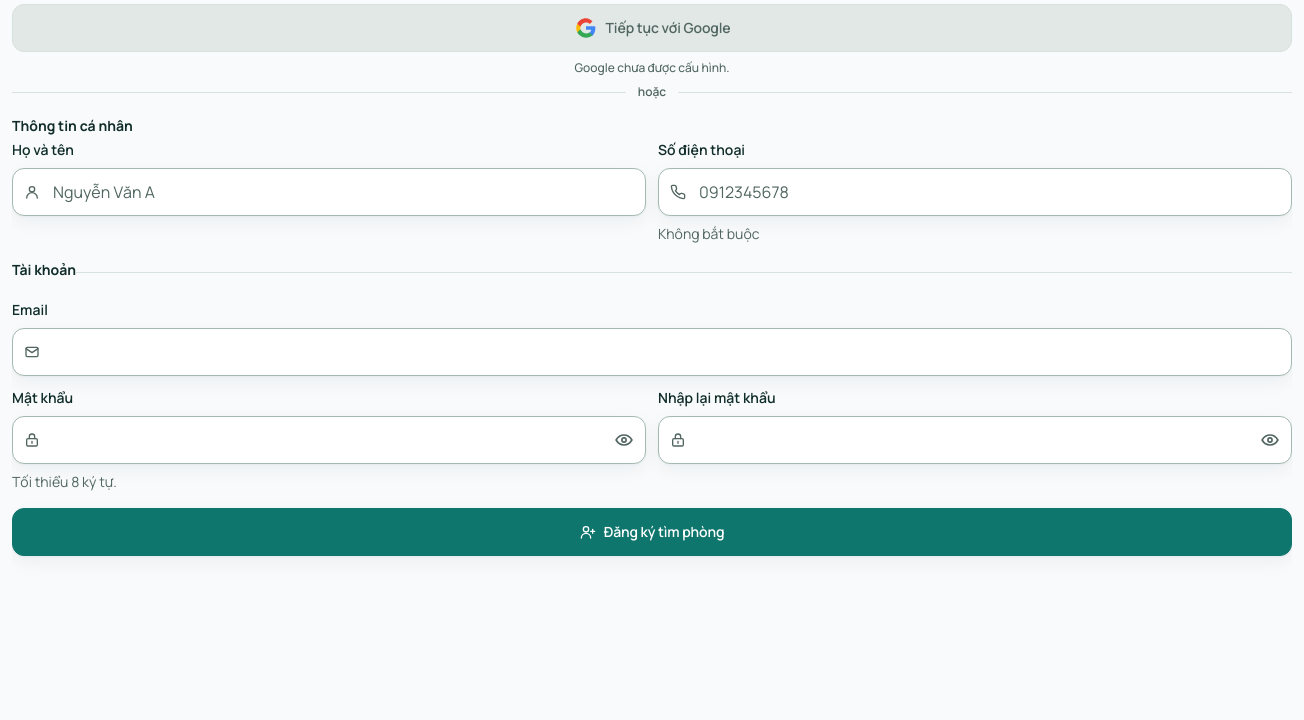
Scenario: RegistrationForm › maps backend validation details and clears the relevant error after correction
Step 1. Type "  Nguyễn Văn An  " into the field named "Họ và tên (bắt buộc)" → (329, 192), box [12,168,646,216]
Step 2. Type "tenant@example.com" into the field named "Email (bắt buộc)" → (652, 352), box [12,328,1292,376]
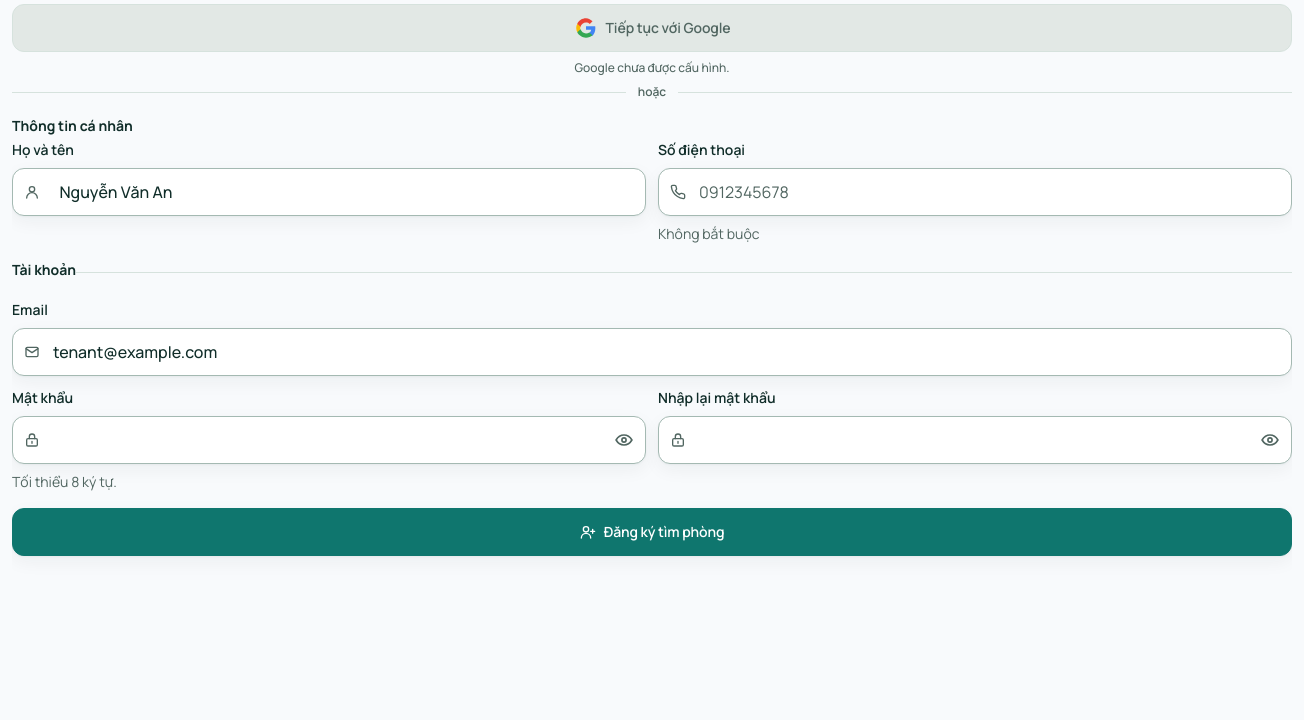
Step 3. Type "password" into the password field named "Mật khẩu (bắt buộc)" → (329, 440), box [12,416,646,464]
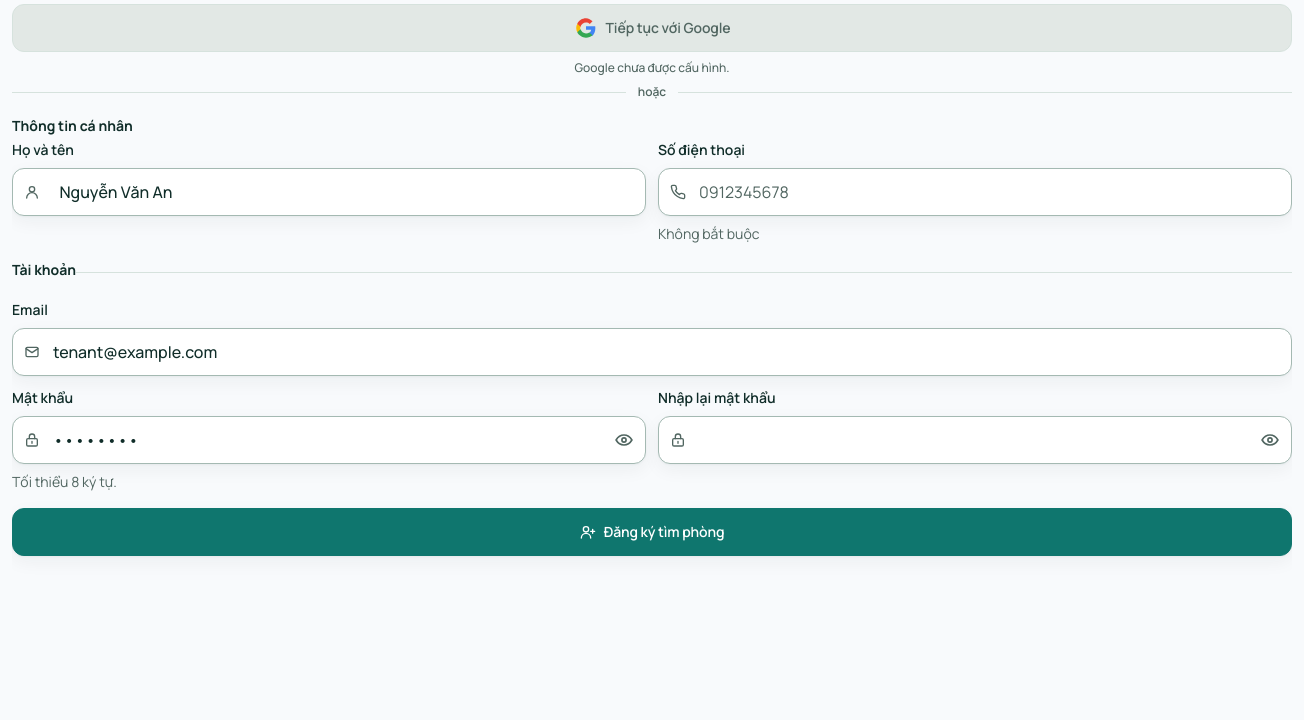
Step 4. Type "password" into the password field named "Nhập lại mật khẩu (bắt buộc)" → (975, 440), box [658,416,1292,464]
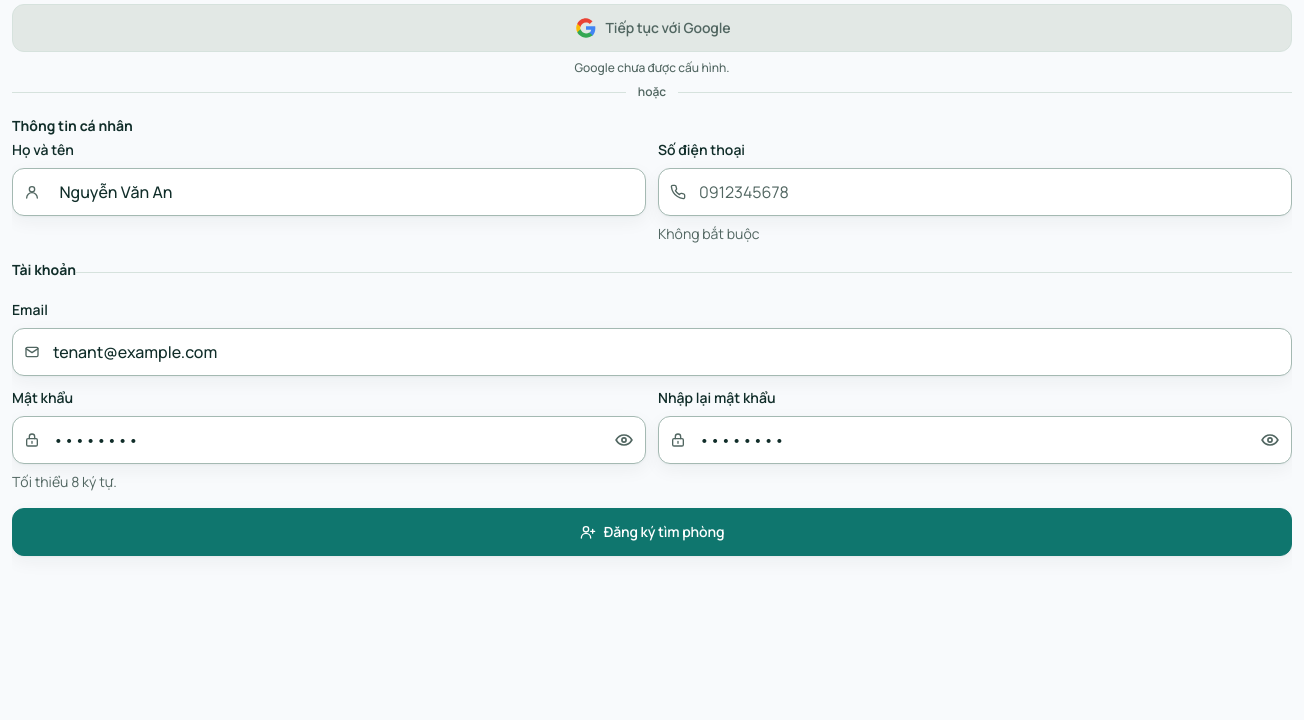
Step 5. Type "+84901234567" into the field labelled "Số điện thoại" → (975, 192), box [658,168,1292,216]
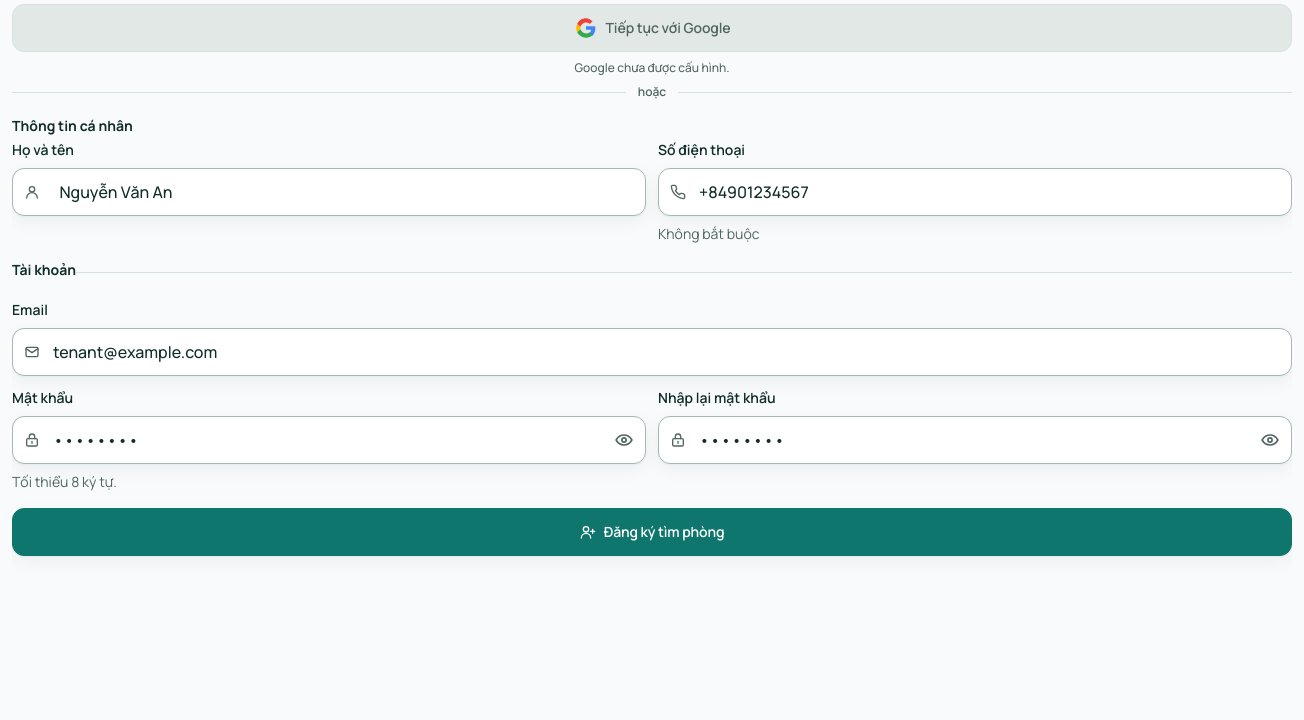
Step 6. Click the button "Đăng ký tìm phòng" → (652, 532), box [12,508,1292,556]
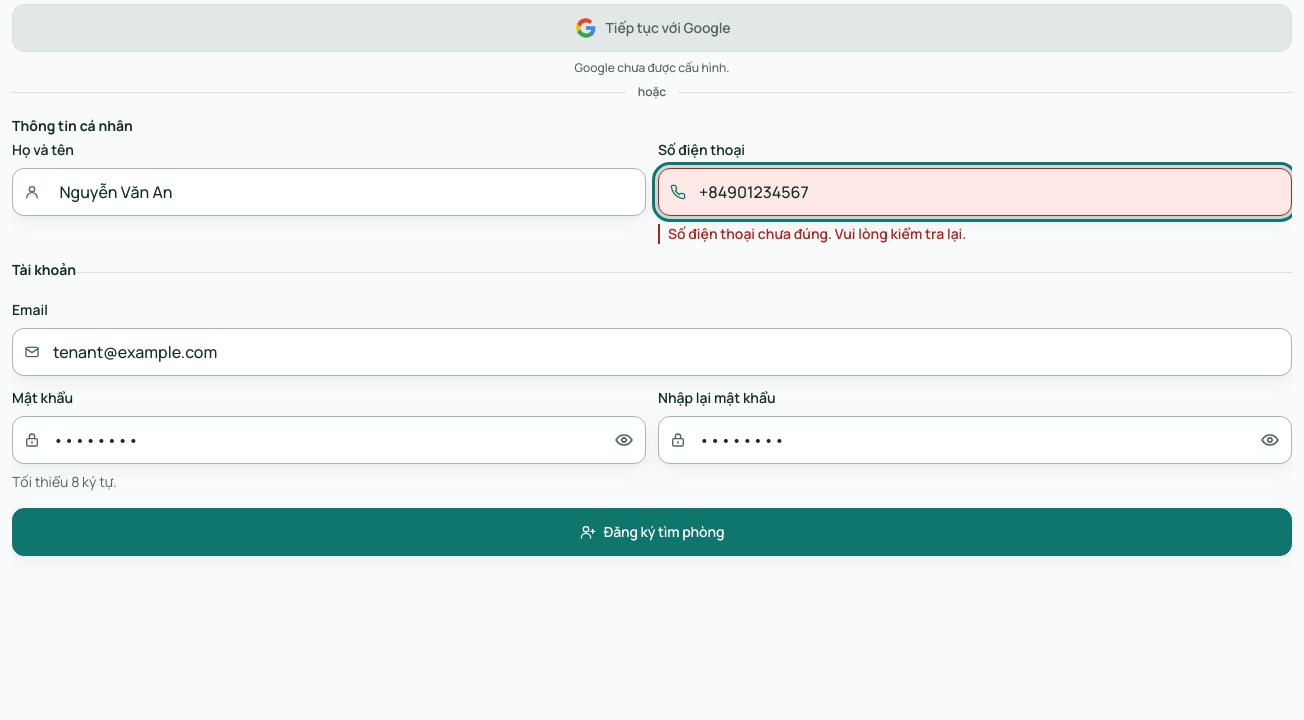
expect the text "Số điện thoại chưa đúng. Vui lòng kiểm tra lại." is shown: met, box [658,224,1292,244]
Step 7. Replace the text in the field labelled "Số điện thoại" with "+84901111111" → (975, 192), box [658,168,1292,216]
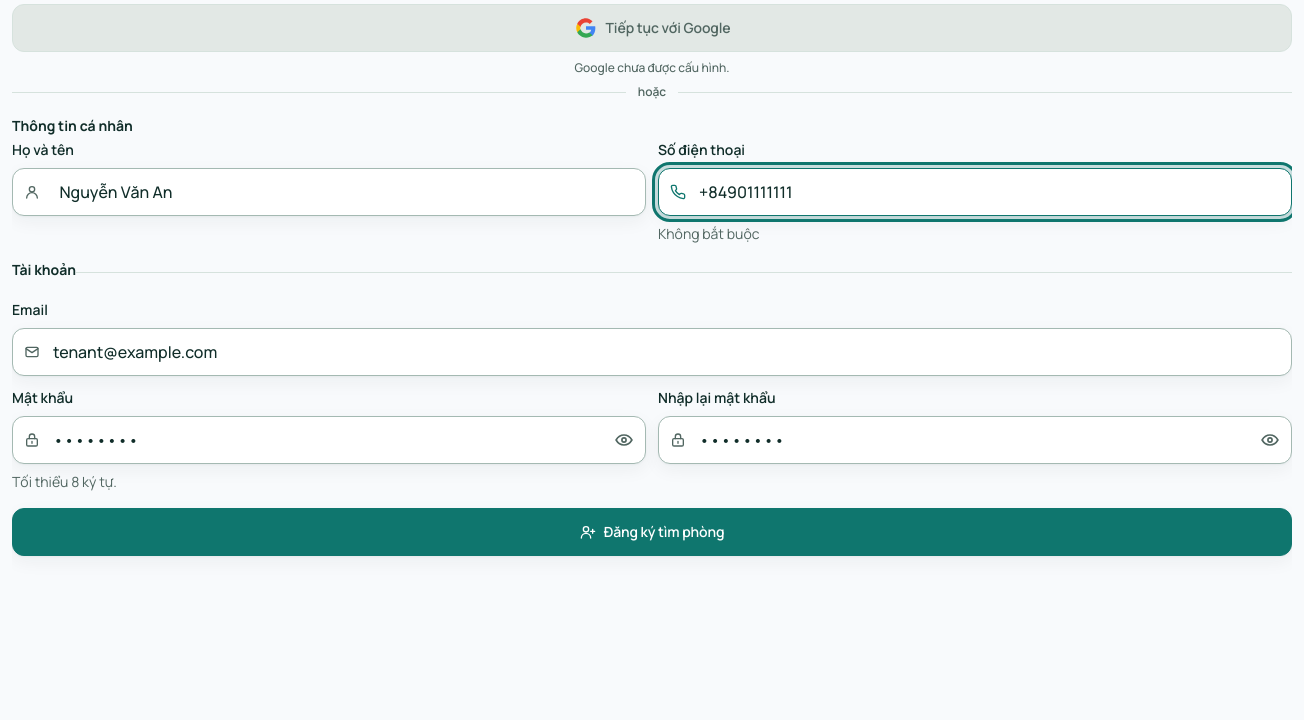
expect the text "Số điện thoại chưa đúng. Vui lòng kiểm tra lại." is gone: met
